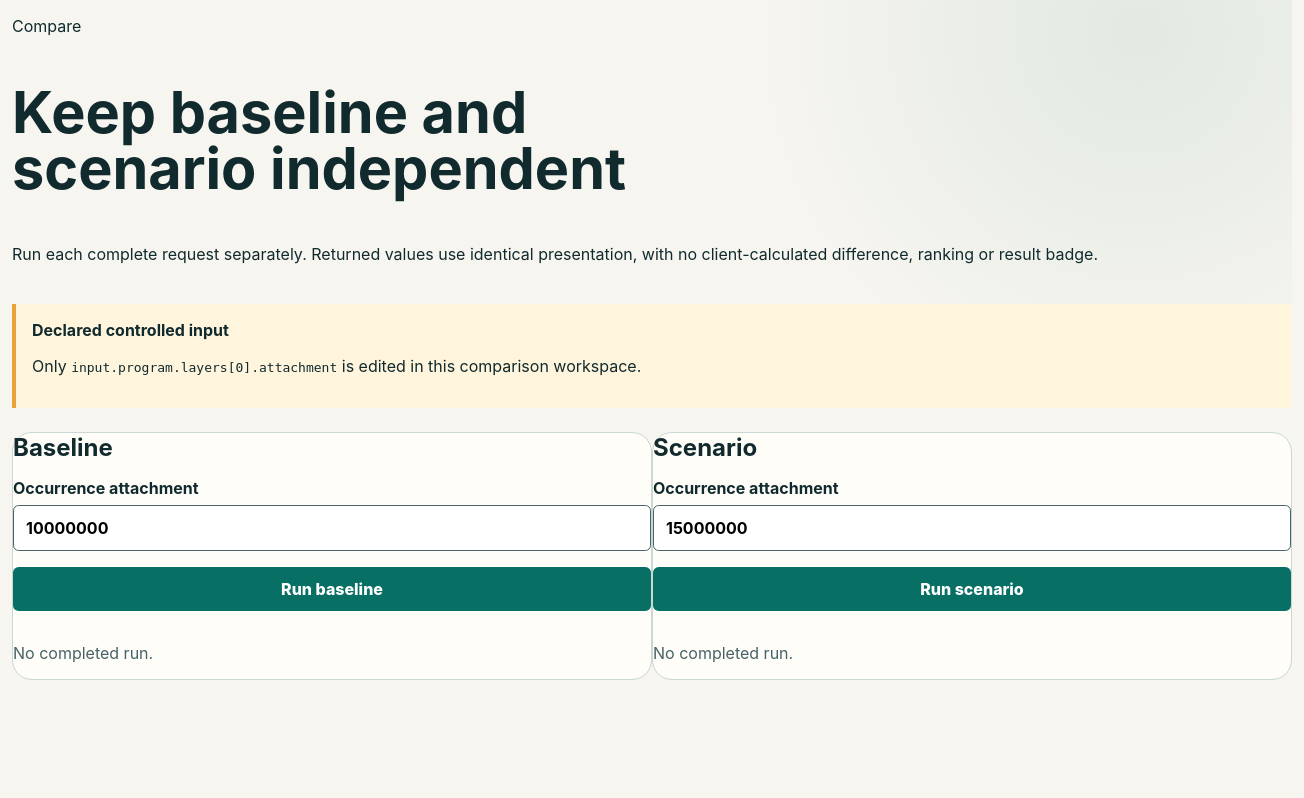
Test: independent side-by-side comparison › runs two complete requests and shows separate identities without result deltas
Click the button "Run baseline": click(332, 589) left=13, top=567, right=651, bottom=611
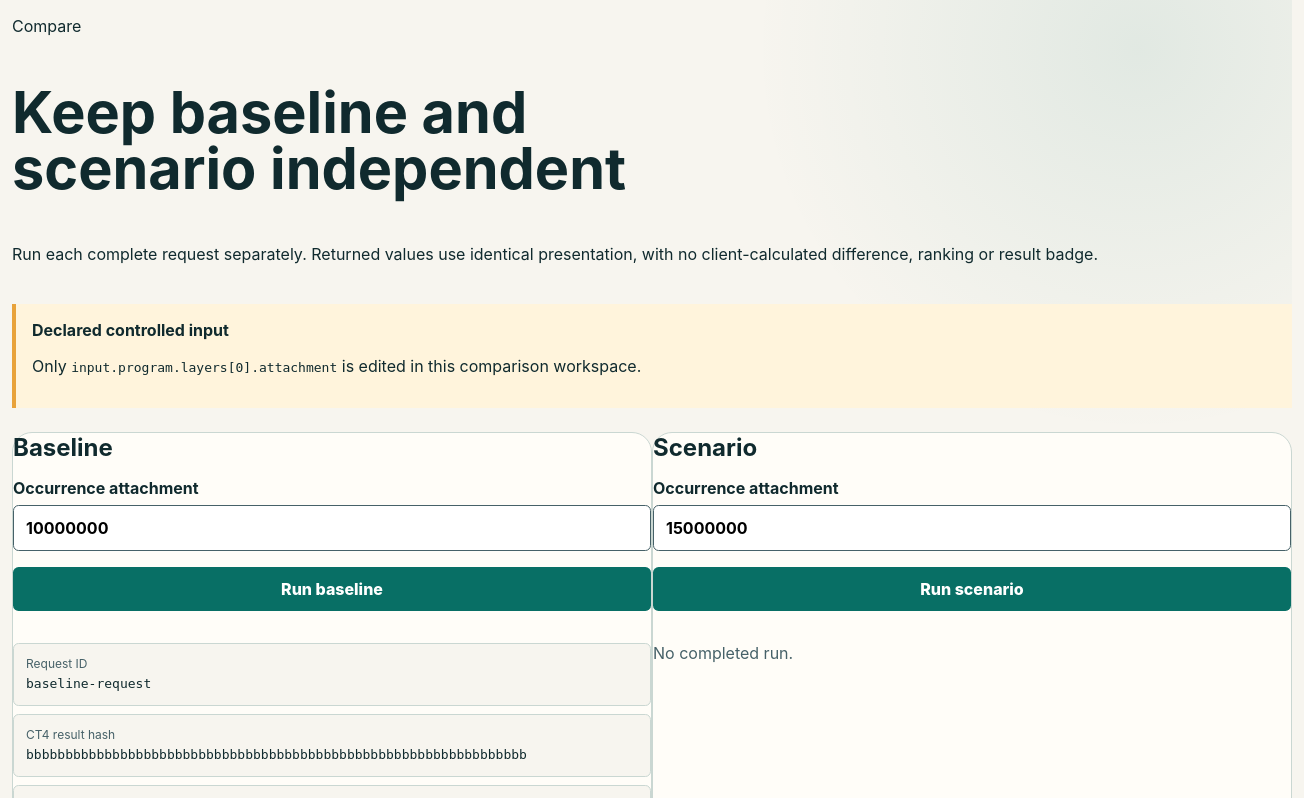
Click the button "Run scenario": click(972, 589) left=653, top=567, right=1291, bottom=611
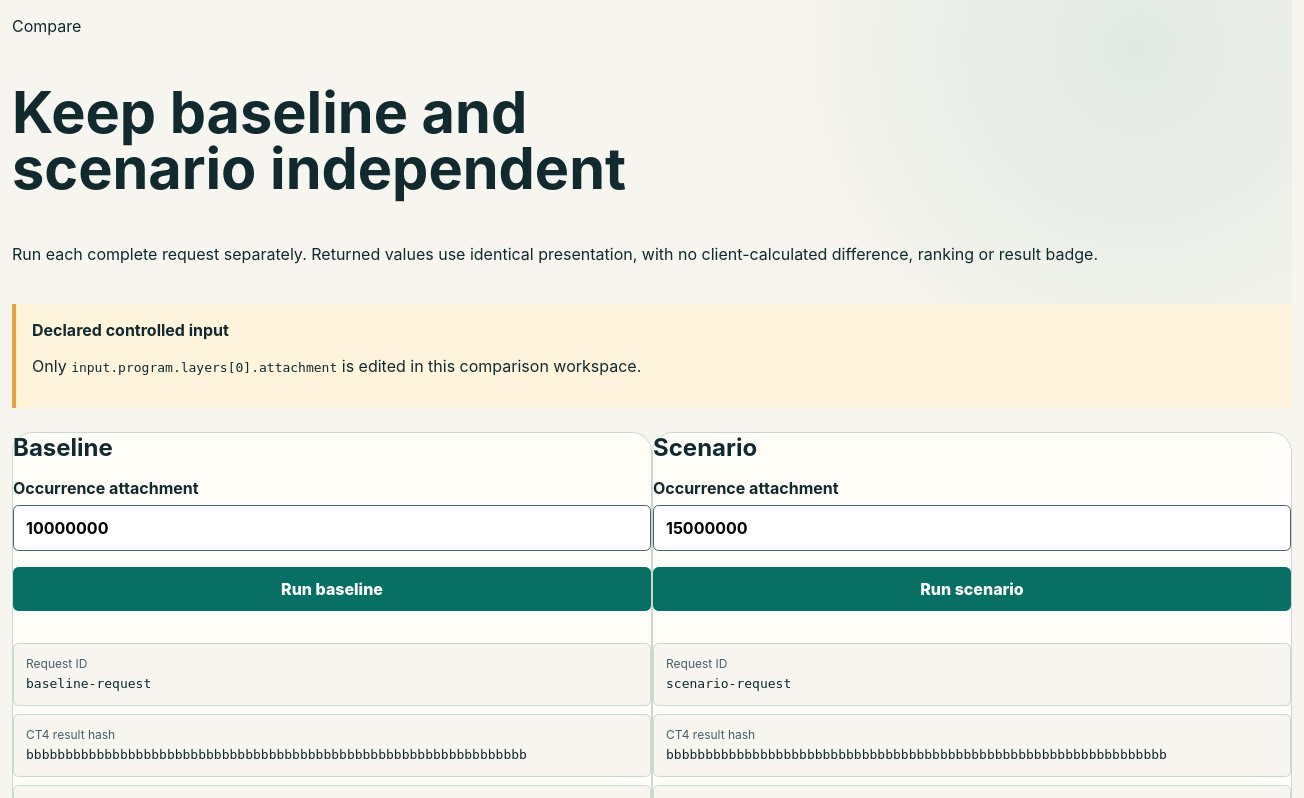
Expected: the text "baseline-request" is shown, left=26, top=676, right=151, bottom=691
Expected: the text "scenario-request" is shown, left=666, top=676, right=791, bottom=691
